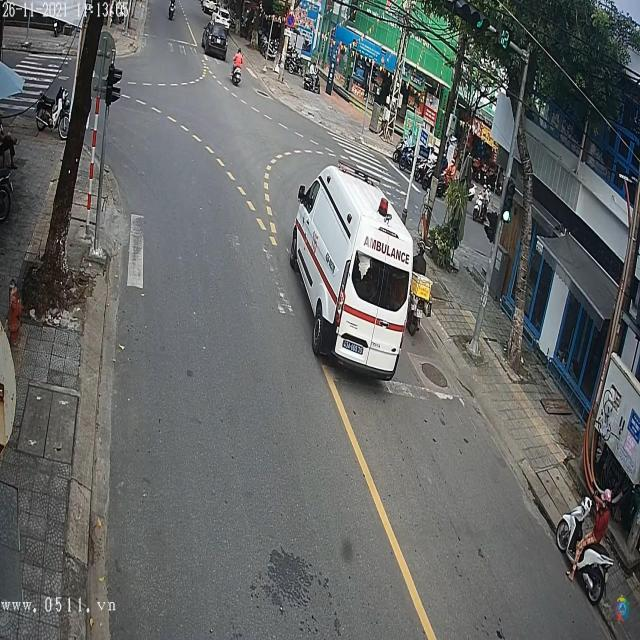car: (289, 164, 421, 385), (201, 11, 229, 65)
motorcycle: (555, 488, 612, 606), (233, 58, 244, 88), (168, 2, 176, 21)
